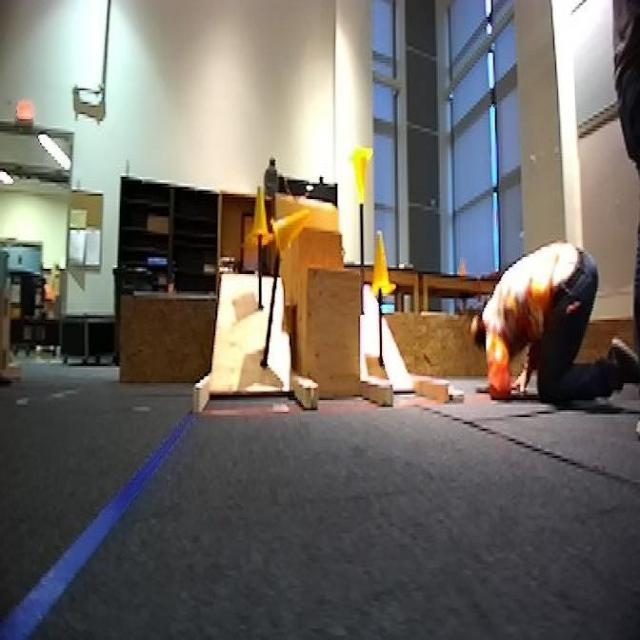frc_cone: (276, 200, 319, 253), (347, 145, 376, 209), (370, 232, 395, 304), (247, 187, 275, 249)
